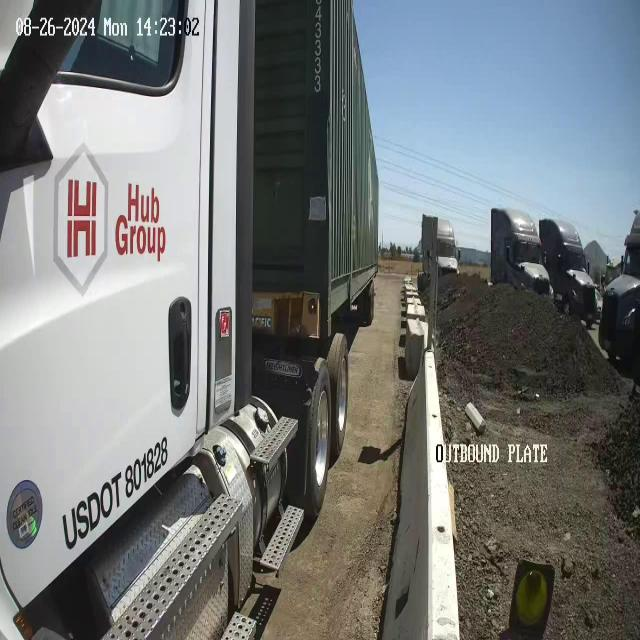TRUCK_CONTAINER: (1, 1, 380, 637)
